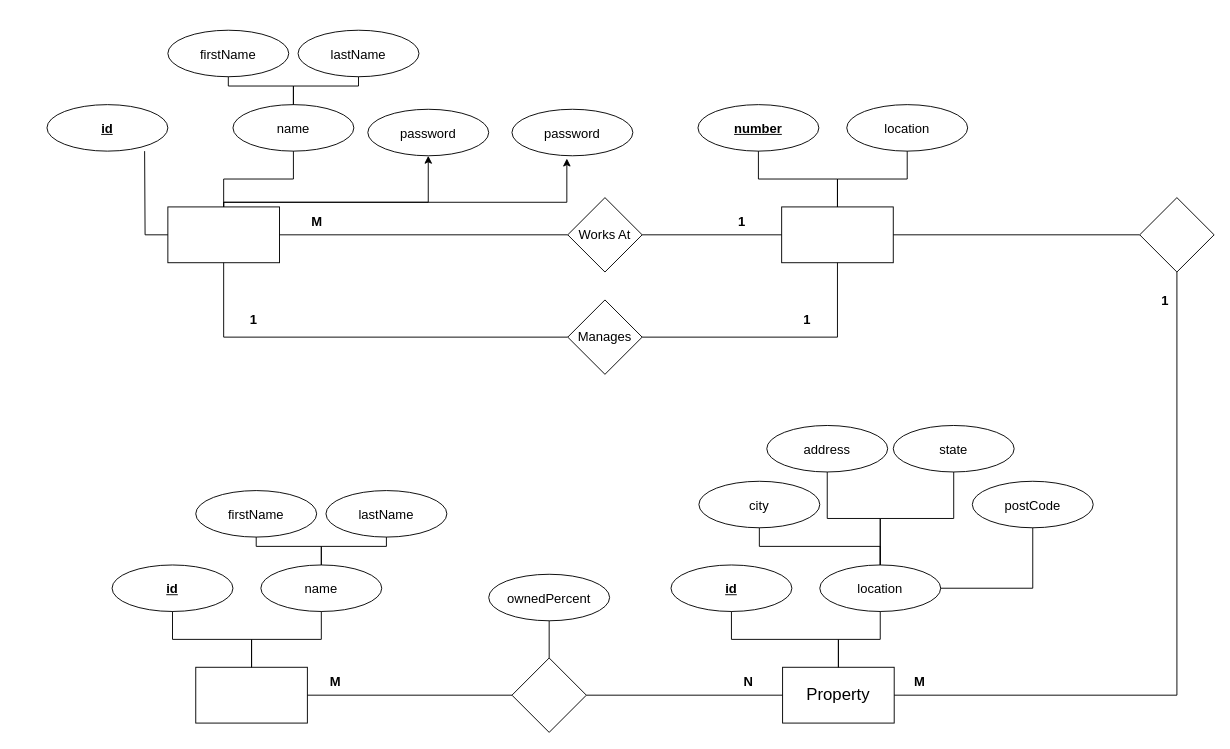
Some shapes in this 1230 by 749 pixel diagram are drawn without their labels. The shapes that lost their labels are listed below. From the top down, each one's centre as x and y in pixels, then its label:
[223,234]: Employee
[837,234]: SalesOffice
[1176,234]: Lists
[251,694]: Owner
[548,694]: Owns
